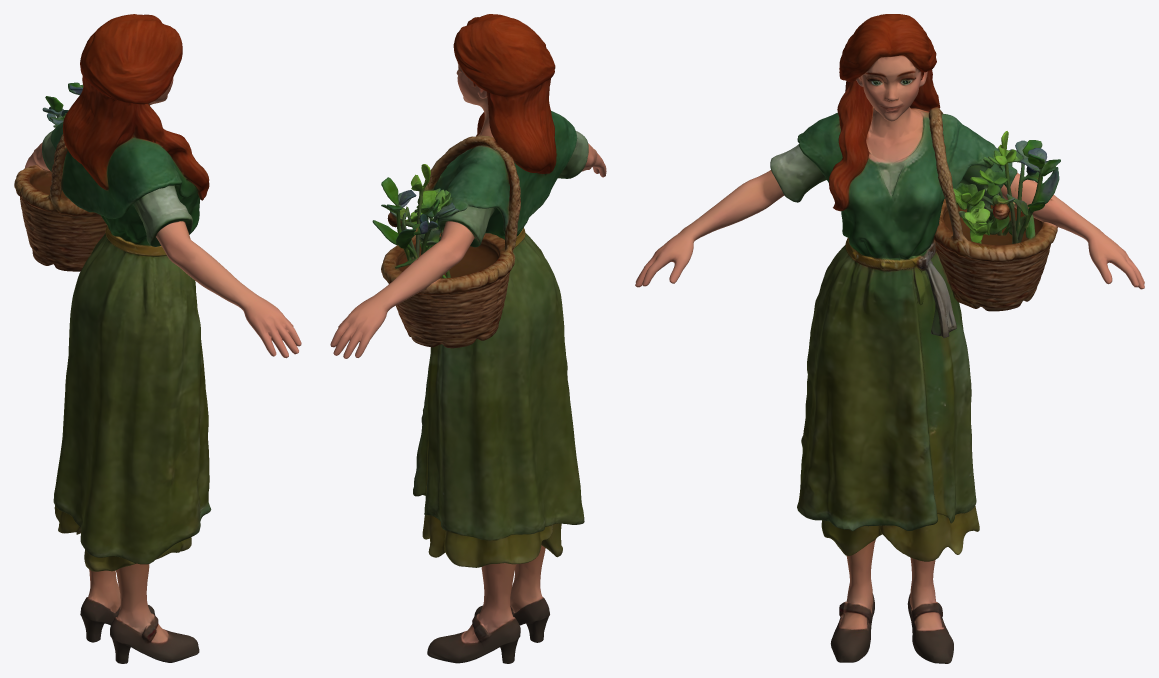
3 views of the same model, side by side, from view 1: azimuth 30°, elevation 25°; view 2: azimuth 150°, elevation 25°; view 3: azimuth 270°, elevation 25° (orthographic).
Visible parts, largest first — view 1: tripo_node_9e4b3860-fbd4-4fc9-a3c3-d92a4d5262a3; view 2: tripo_node_9e4b3860-fbd4-4fc9-a3c3-d92a4d5262a3; view 3: tripo_node_9e4b3860-fbd4-4fc9-a3c3-d92a4d5262a3.
Boxes of the visible parts, x1,y1,x2,y2 form: tripo_node_9e4b3860-fbd4-4fc9-a3c3-d92a4d5262a3: (14,14,301,663); tripo_node_9e4b3860-fbd4-4fc9-a3c3-d92a4d5262a3: (330,14,606,663); tripo_node_9e4b3860-fbd4-4fc9-a3c3-d92a4d5262a3: (635,14,1144,663).
Bounding box in the file's own units: 0.2192 × 1 × 0.7383.
1 material, 1 textured.
